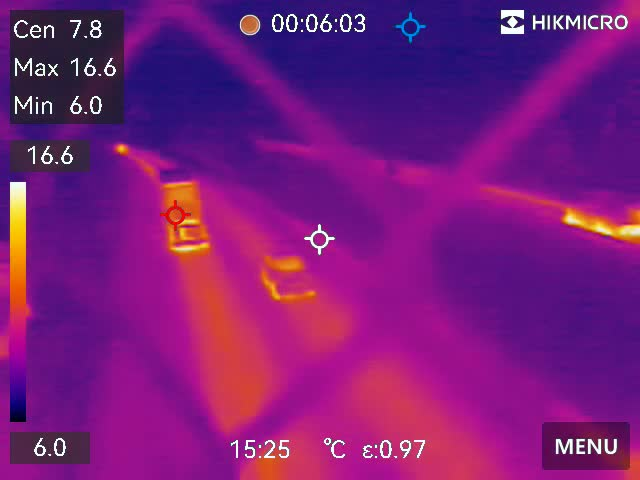heavyTruck: (154, 168, 209, 252)
